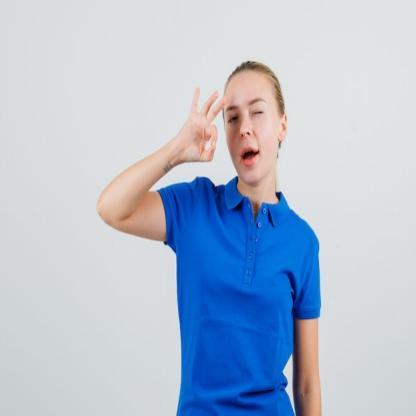ok: (183, 83, 229, 162)
